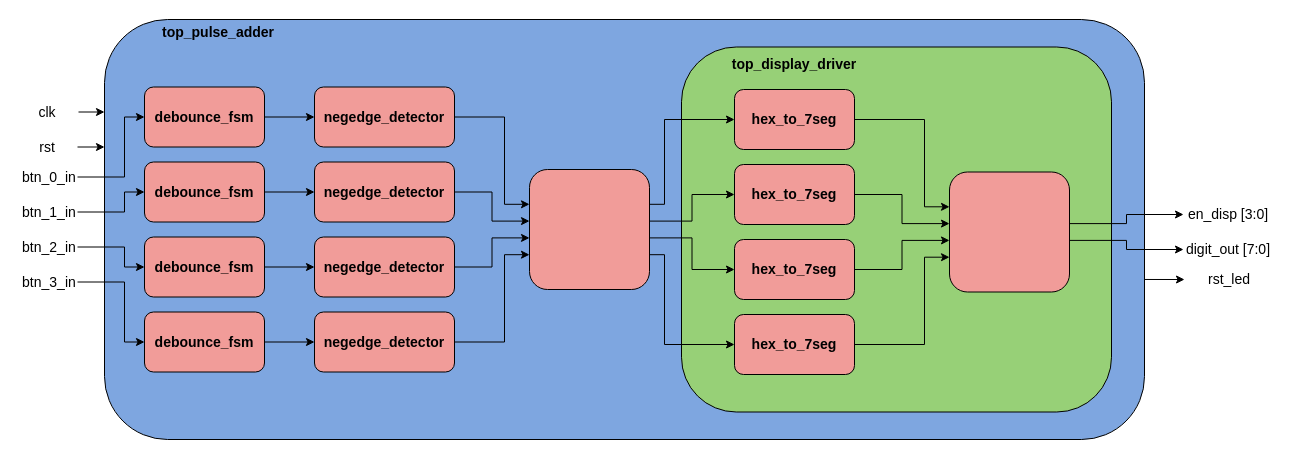
Image size: 1291x457. Some labels were removed from this diagram. Here are the shapes that lost their labels. From the top down, the centre of each, then its label:
point 589,229: pulse_adder
point 1009,231: display_driver
